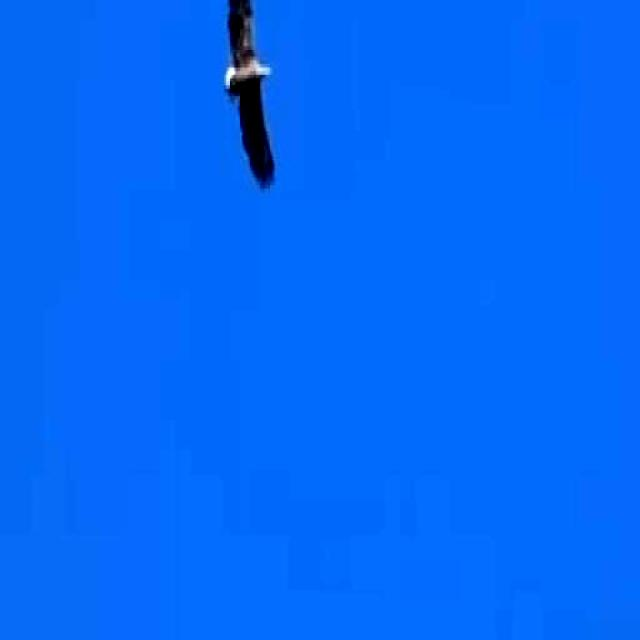airplane: (202, 0, 304, 210)
